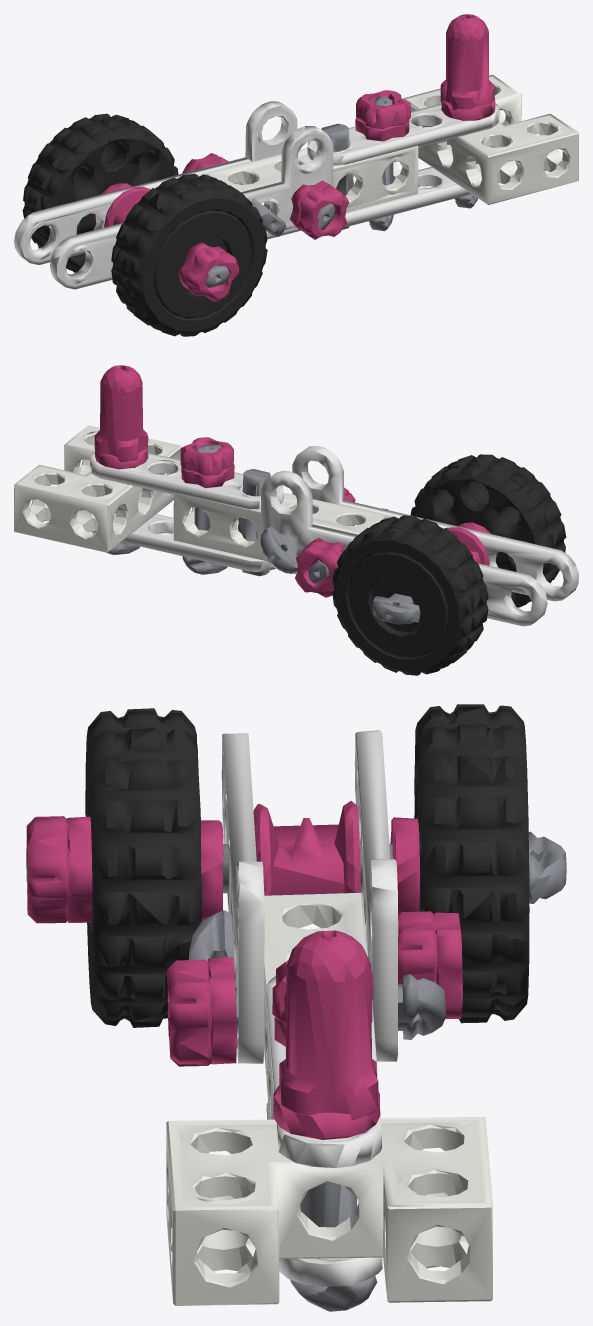
Rendered from state12.fbx.
The picture shows the model from 3 angles, top to bottom: view 1: azimuth 30°, elevation 25°; view 2: azimuth 150°, elevation 25°; view 3: azimuth 270°, elevation 25°; orthographic projection. The views are drawn at different scales.
Visible parts, largest first — view 1: Brace AGD 90 ASYM ERR BU02x06x01x00.25 - SPN-BRC-1003 (stemf; view 2: Brace AGD 90 ASYM ERR BU02x06x01x00.25 - SPN-BRC-1003 (stemf; view 3: Brace AGD 90 ASYM ERR BU02x06x01x00.25 - SPN-BRC-1003 (stemf.
Boxes of the visible parts, x1=… form: Brace AGD 90 ASYM ERR BU02x06x01x00.25 - SPN-BRC-1003 (stemf: x1=14, y1=14, x2=578, y2=336; Brace AGD 90 ASYM ERR BU02x06x01x00.25 - SPN-BRC-1003 (stemf: x1=14, y1=365, x2=578, y2=675; Brace AGD 90 ASYM ERR BU02x06x01x00.25 - SPN-BRC-1003 (stemf: x1=26, y1=704, x2=566, y2=1311.
Size of the model in its own units: 13638 by 5041 by 6322.
